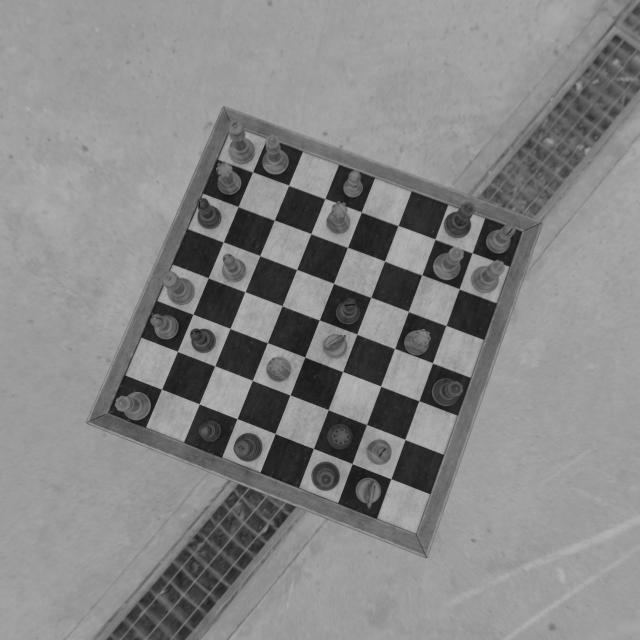chessboard: (108, 126, 521, 535)
